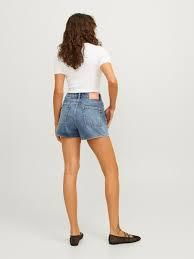short: (52, 91, 115, 143)
